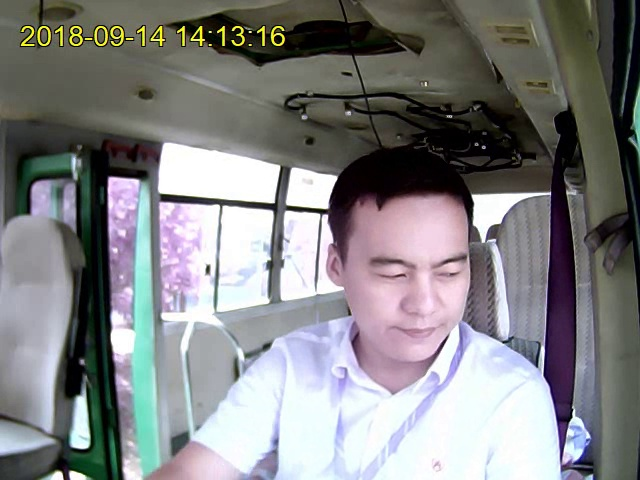closed_mouth: (392, 323, 448, 340)
